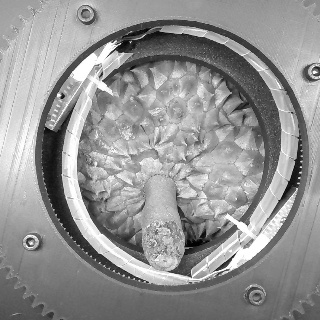base: (139, 168, 178, 201)
end: (153, 253, 176, 269)
